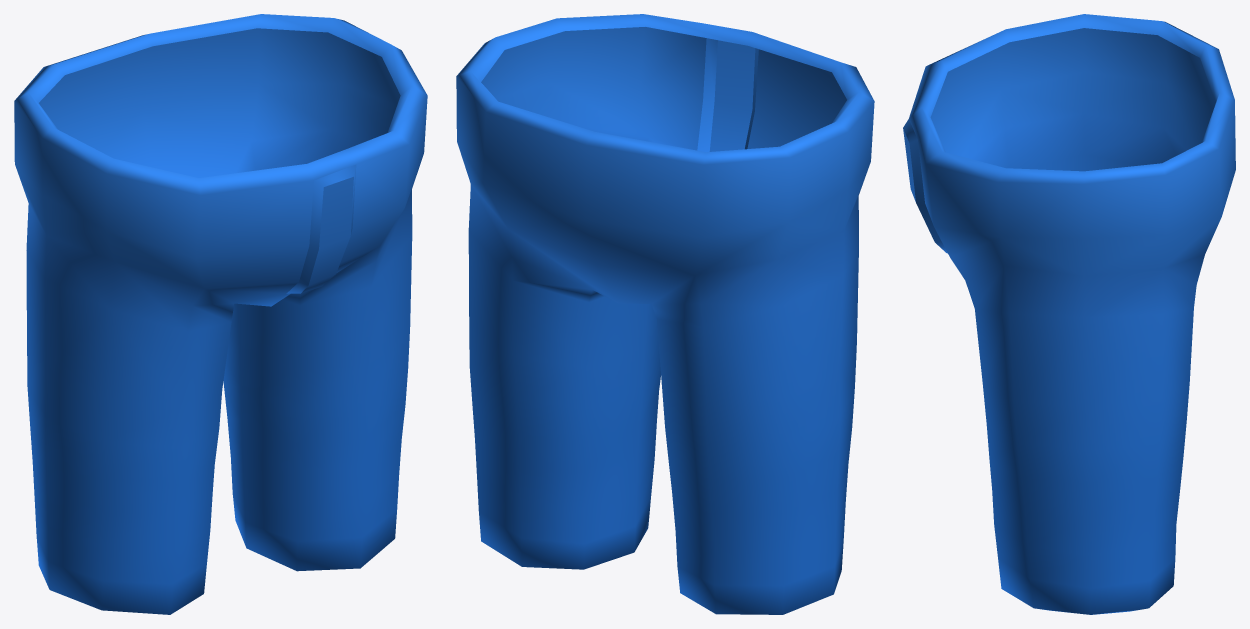
File: Bottom_Fit.fbx
3 renders of one model, left to right at view 1: azimuth 30°, elevation 25°; view 2: azimuth 150°, elevation 25°; view 3: azimuth 270°, elevation 25°, orthographic. The views are drawn at different scales.
Parts seen in each view (by area): view 1: Body_4.002; view 2: Body_4.002; view 3: Body_4.002.
Boxes of the visible parts, box(x1,y1,x2,y2) form: Body_4.002: box(14, 14, 427, 614); Body_4.002: box(456, 14, 874, 614); Body_4.002: box(903, 14, 1235, 614).
Bounding box in the file's own units: 37.99 × 48.68 × 31.97.
